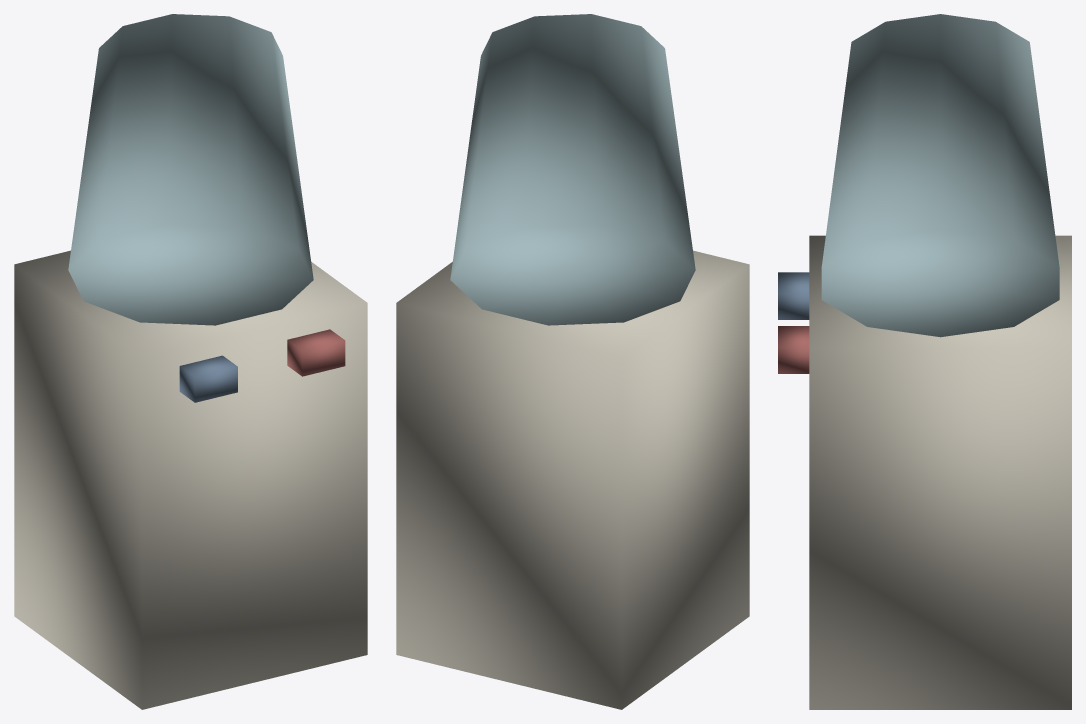
File: water_cooler__squat.glb
3 renders of one model, left to right at view 1: azimuth 30°, elevation 25°; view 2: azimuth 150°, elevation 25°; view 3: azimuth 270°, elevation 25°, orthographic. The views are drawn at different scales.
Parts seen in each view (by area): view 1: world; view 2: world; view 3: world.
Part boxes in pixels (box(x1,y1,x2,y2)): world: box(14, 14, 367, 709); world: box(396, 14, 749, 709); world: box(778, 14, 1071, 709).
Size of the model in its own units: 0.462 by 1.14 by 0.5076.
